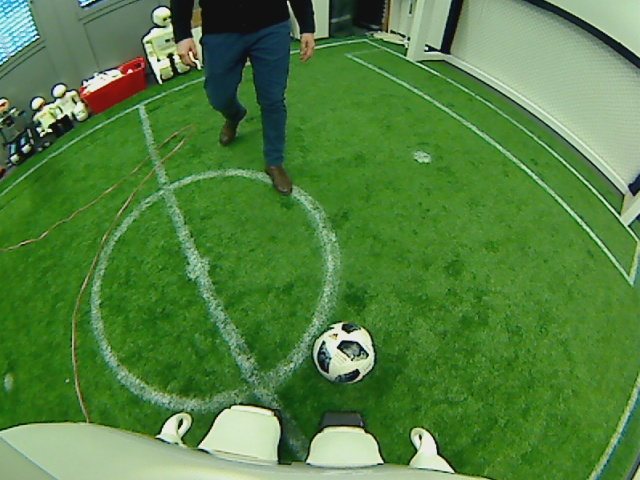ball: (309, 321, 377, 386)
